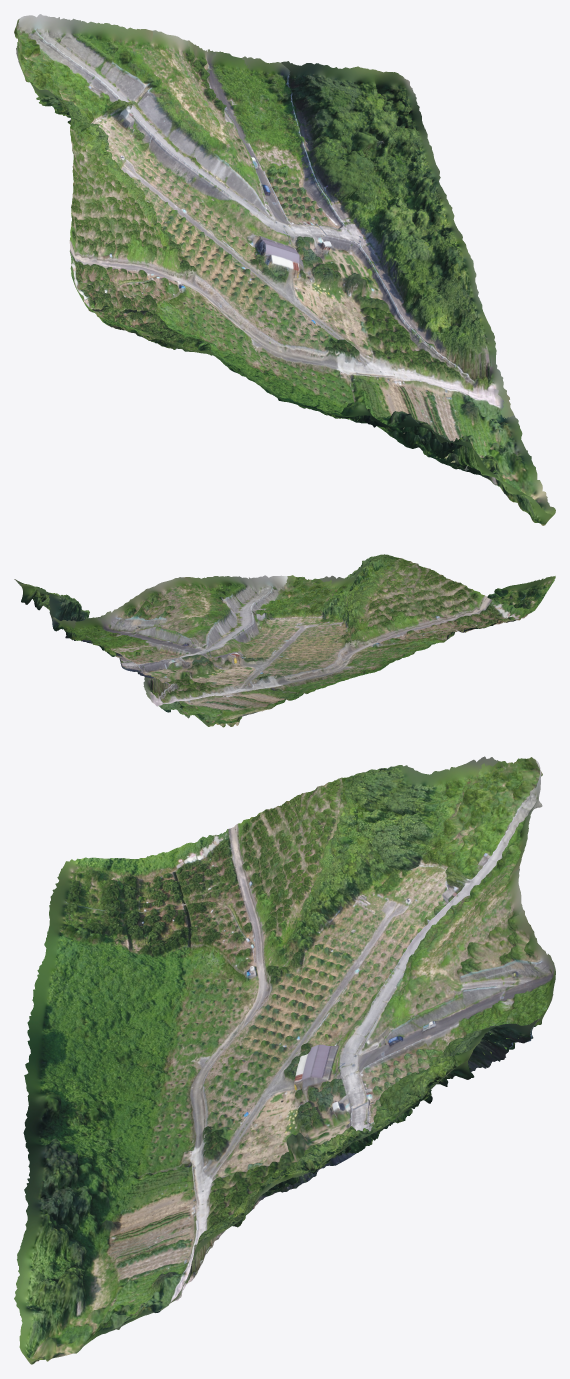
File: field.glb
The picture shows the model from 3 angles, top to bottom: view 1: azimuth 30°, elevation 25°; view 2: azimuth 150°, elevation 25°; view 3: azimuth 270°, elevation 25°; orthographic projection. The views are drawn at different scales.
Parts seen in each view (by area): view 1: Object_5, Object_4, Object_6, Object_3, Object_7; view 2: Object_5, Object_4, Object_6, Object_3, Object_7; view 3: Object_5, Object_3, Object_6, Object_4, Object_7.
Boxes of the visible parts, x1,y1,x2,y2 form: Object_5: (14,16,527,510); Object_4: (18,14,541,514); Object_6: (14,23,553,525); Object_3: (19,61,555,525); Object_7: (16,18,520,497); Object_5: (52,575,527,719); Object_4: (53,565,544,718); Object_6: (55,578,522,727); Object_3: (14,554,555,722); Object_7: (52,575,525,693); Object_5: (19,757,555,1346); Object_3: (14,760,538,1361); Object_6: (21,761,552,1364); Object_4: (16,760,555,1343); Object_7: (37,756,540,1324).
Size of the model in its own units: 89.3 by 77.2 by 84.48.
Materials: 1 (1 with a texture image).
